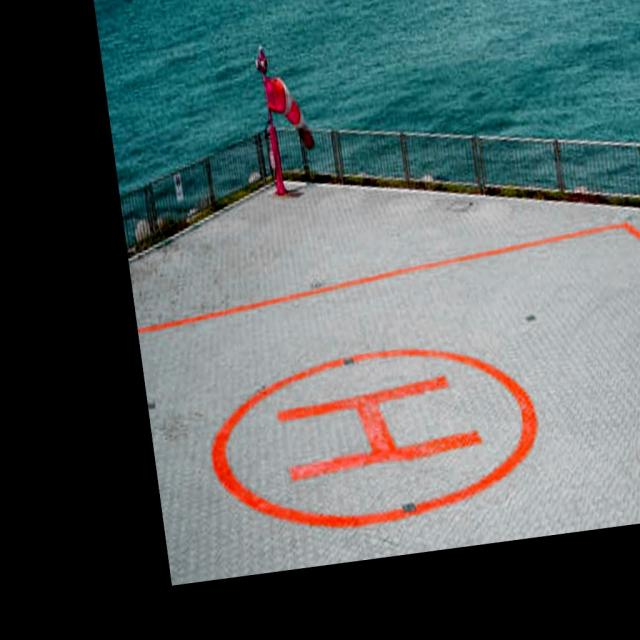helipad: (203, 343, 545, 531)
